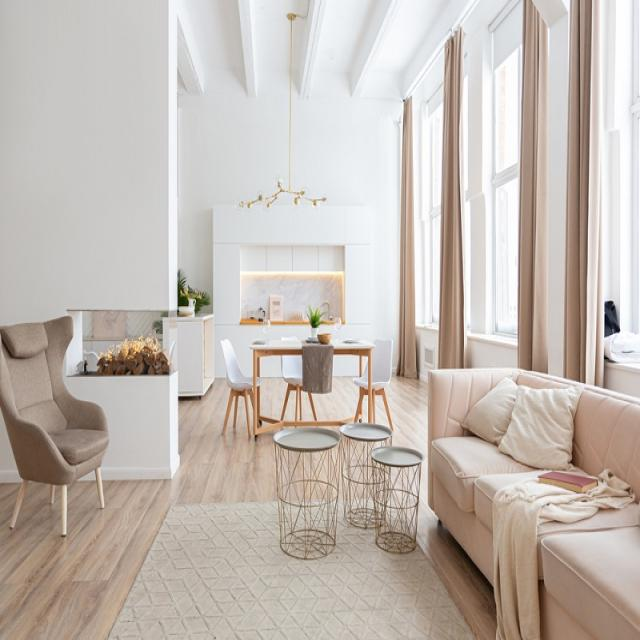modern chair: (0, 309, 115, 552)
modern desk: (253, 334, 380, 430), (222, 333, 250, 442)
modern sofa: (424, 355, 640, 640)
